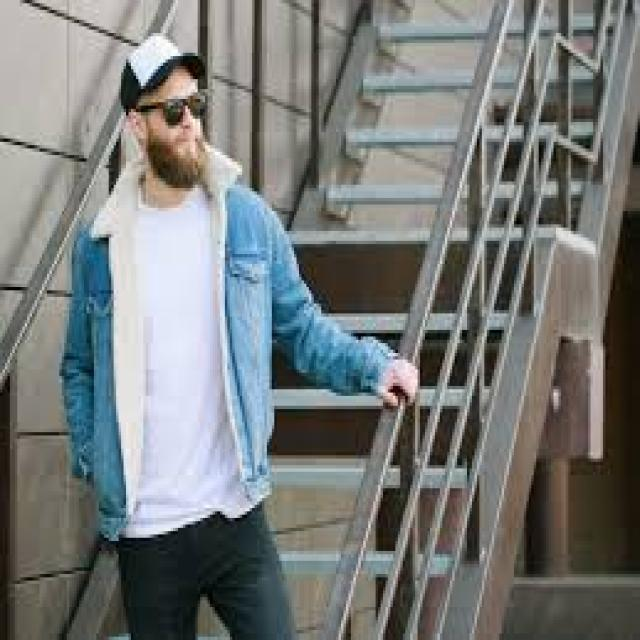3_gorra: (116, 33, 213, 109)
